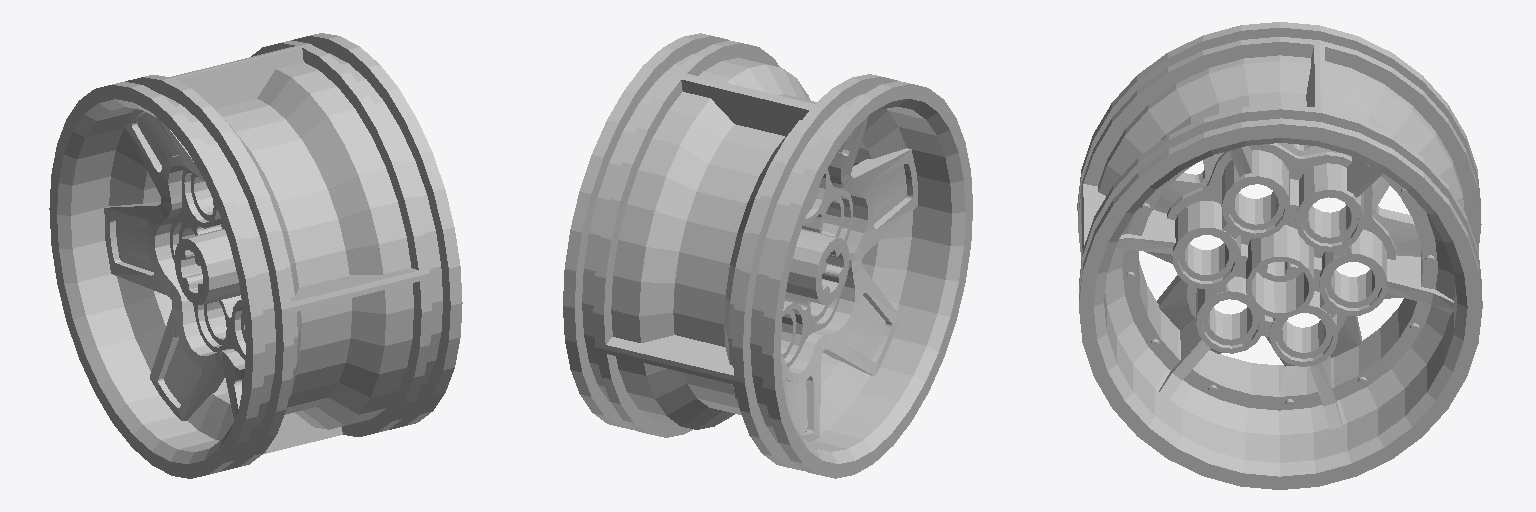
The model's file is balloon-wheel-hub.obj.
The picture shows the model from 3 angles: view 1: azimuth 30°, elevation 25°; view 2: azimuth 150°, elevation 25°; view 3: azimuth 270°, elevation 25°; orthographic projection.
Parts seen in each view (by area): view 1: Part.532_56908.json; view 2: Part.532_56908.json; view 3: Part.532_56908.json.
Part boxes in pixels (left/top/right/bottom): Part.532_56908.json: left=49, top=33, right=462, bottom=478; Part.532_56908.json: left=563, top=33, right=972, bottom=478; Part.532_56908.json: left=1077, top=22, right=1482, bottom=489.
Bounding box in the file's own units: 0.0262 × 0.0432 × 0.0434.